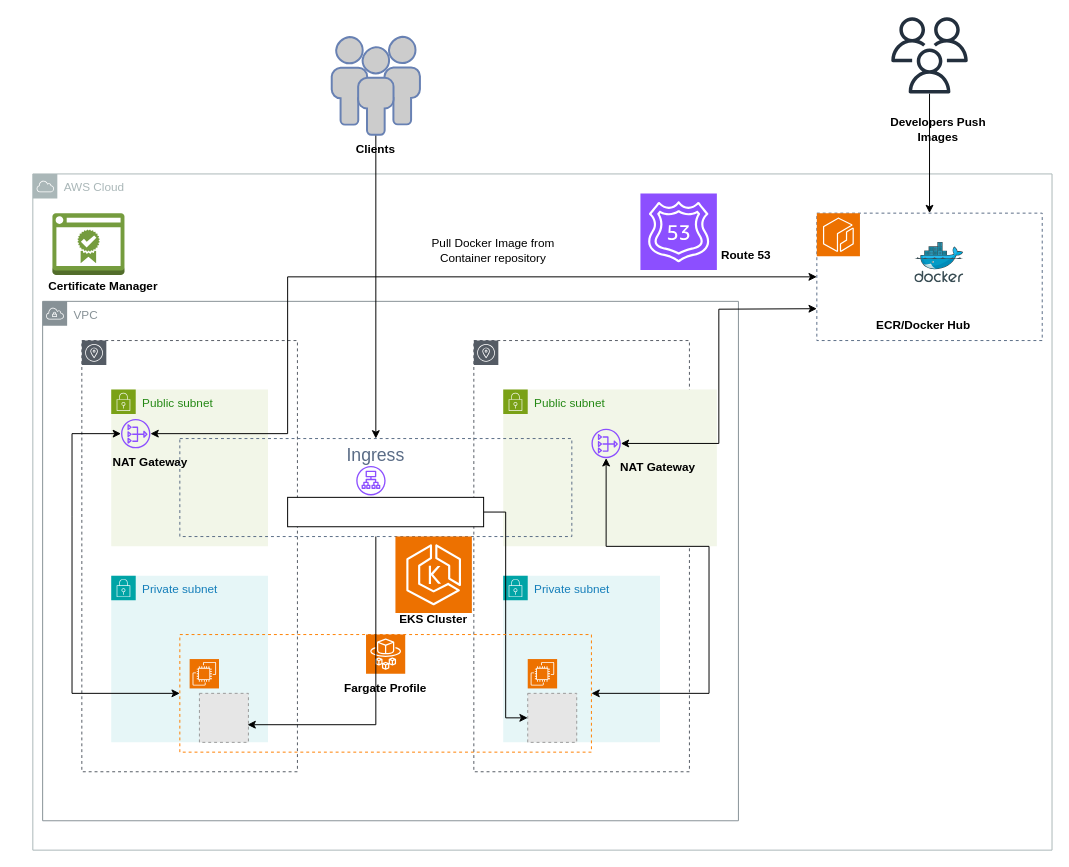
Image size: 1069x867. Some labels were removed from this diagram. Grey dashed boxes stand in for pictures. Here are the shapes that lost their labels. From the top down, the box of each, then its label:
(287, 496, 484, 527): ALB Ingress Service
(81, 340, 297, 772): Availability zone: us-east-1a
(473, 340, 689, 772): Availability zone: us-east-1b
